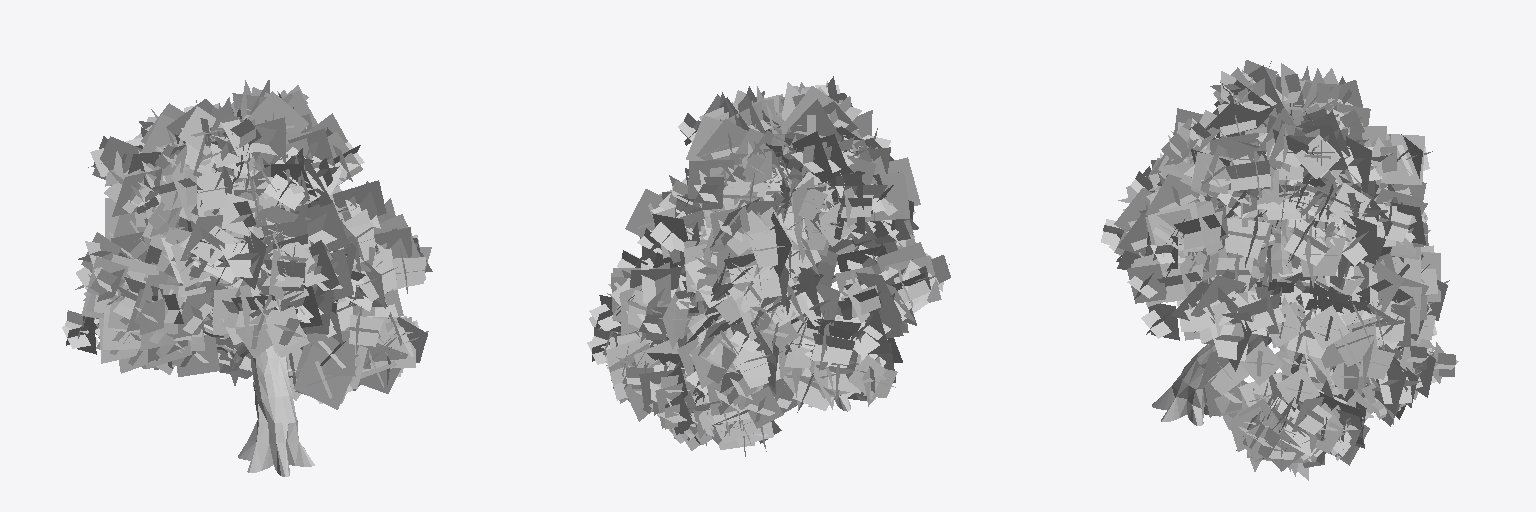
The model's file is CherryBlossom_4.obj.
3 views of the same model, side by side, from view 1: azimuth 30°, elevation 25°; view 2: azimuth 150°, elevation 25°; view 3: azimuth 270°, elevation 25° (orthographic).
Visible parts, largest first — view 1: CherryBlossom_4; view 2: CherryBlossom_4; view 3: CherryBlossom_4.
Boxes of the visible parts, box(x1,y1,x2,y2) form: CherryBlossom_4: box(62, 80, 432, 476); CherryBlossom_4: box(587, 76, 950, 456); CherryBlossom_4: box(1101, 60, 1458, 480).
Bounding box in the file's own units: 13.34 × 13.37 × 12.54.